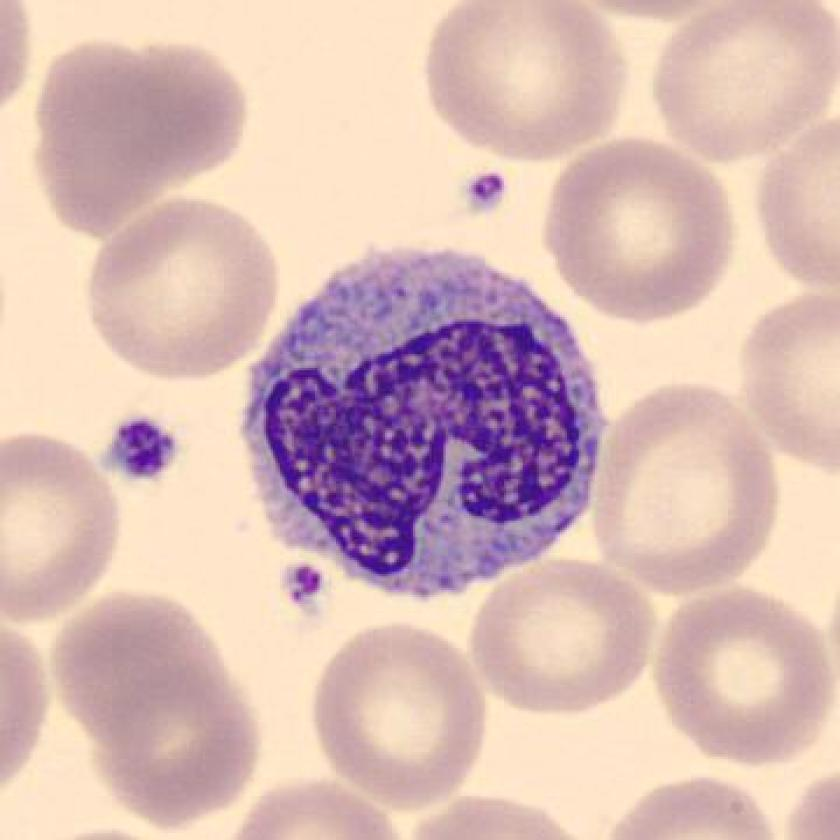monocyte: (221, 223, 627, 624)
